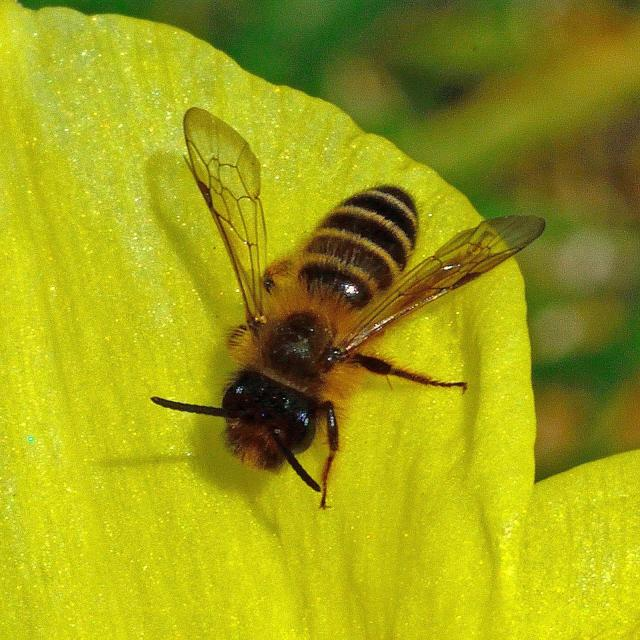Apis-mellifera-scutellata: (135, 83, 552, 544)
